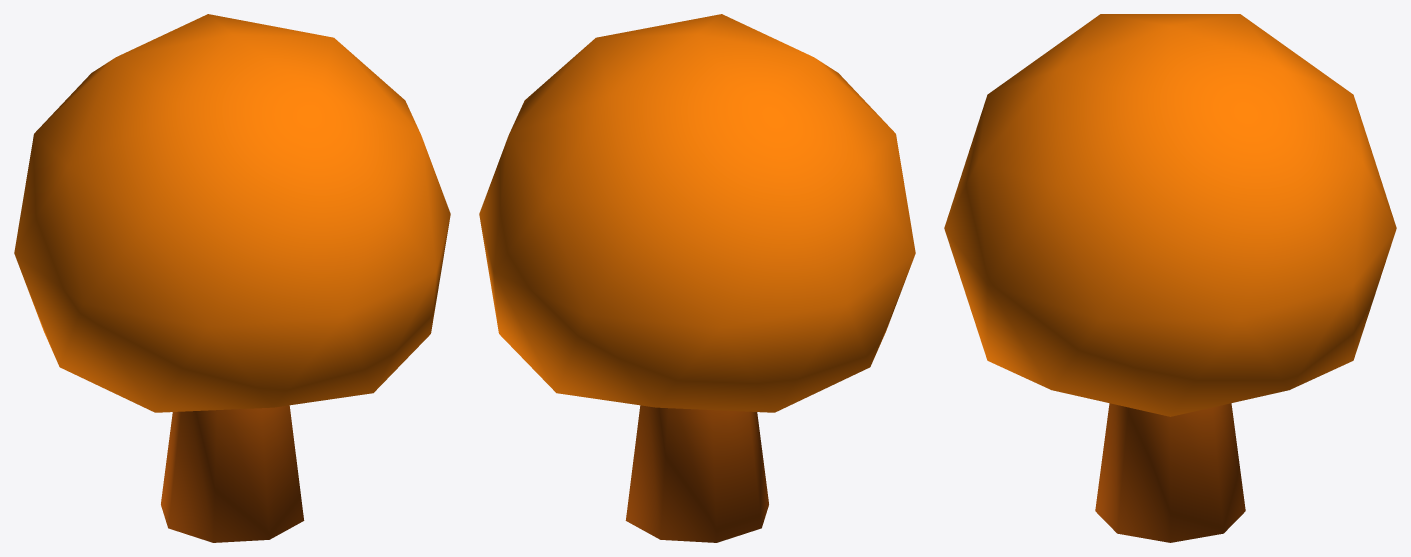
Rendered from Bush_01.2.fbx.
3 views of the same model, side by side, from view 1: azimuth 30°, elevation 25°; view 2: azimuth 150°, elevation 25°; view 3: azimuth 270°, elevation 25° (orthographic).
Parts seen in each view (by area): view 1: Bush_01.2; view 2: Bush_01.2; view 3: Bush_01.2.
Boxes of the visible parts, x1,y1,x2,y2 form: Bush_01.2: (14,14,450,542); Bush_01.2: (479,14,915,542); Bush_01.2: (944,14,1396,542).
Size of the model in its own units: 143 by 150 by 178.
